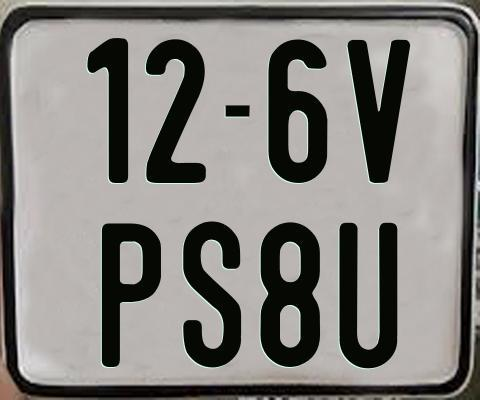1: (86, 37, 129, 182)
2: (146, 39, 212, 188)
6: (265, 37, 328, 184)
8: (257, 219, 320, 366)
P: (101, 221, 161, 365)
S: (180, 218, 244, 365)
U: (337, 220, 398, 369)
V: (346, 38, 409, 183)
